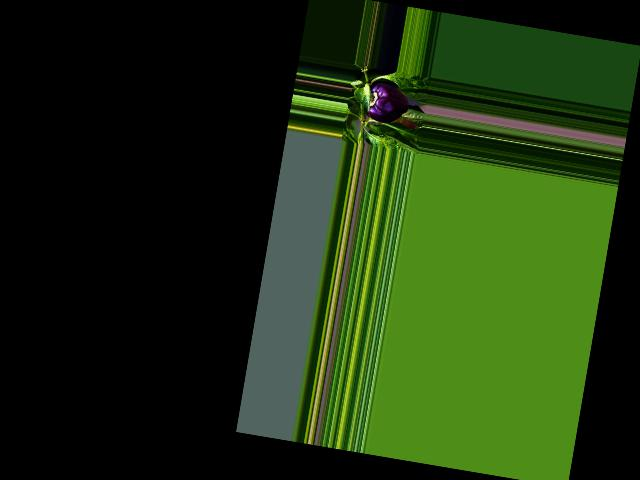bell_pepper: (360, 80, 413, 127)
